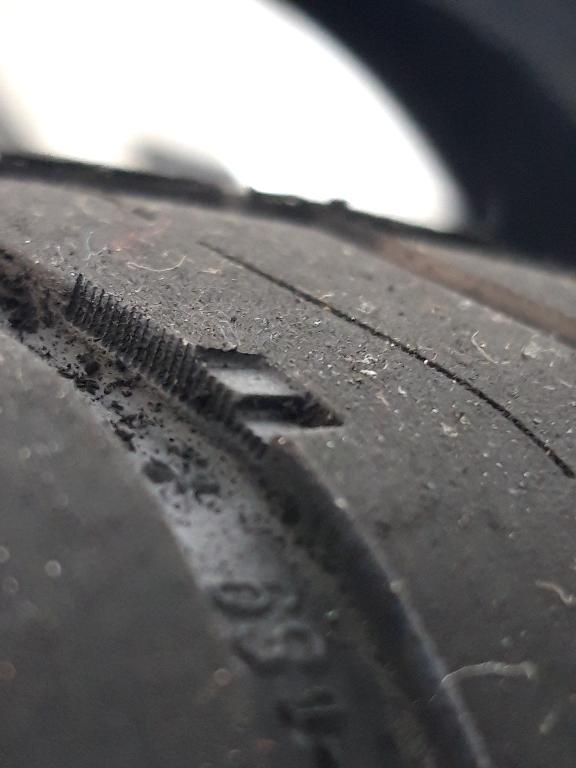temoin:25: (171, 336, 359, 473)
